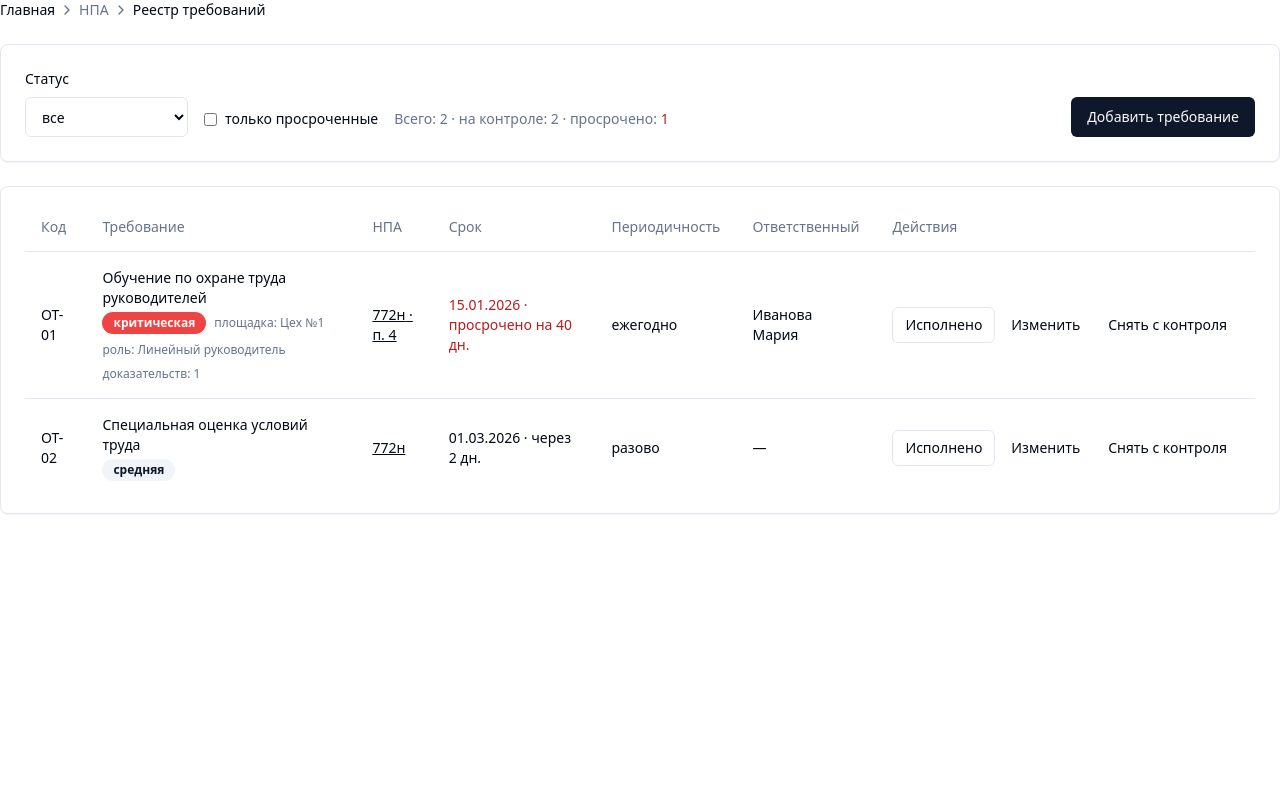
RequirementsPage › «Исполнено» шлёт доказательство, «Снять с контроля» — retire (срез-145)
The image size is (1280, 800).
Check: the text "Обучение по охране труда руководителей" is shown, box x1=102 y1=268 x2=286 y2=306
Check: the column heading "Действия" is shown, box x1=876 y1=203 x2=1255 y2=251
Click the button "Исполнено" in the row of "OT-01": [944, 324] box x1=892 y1=306 x2=995 y2=342
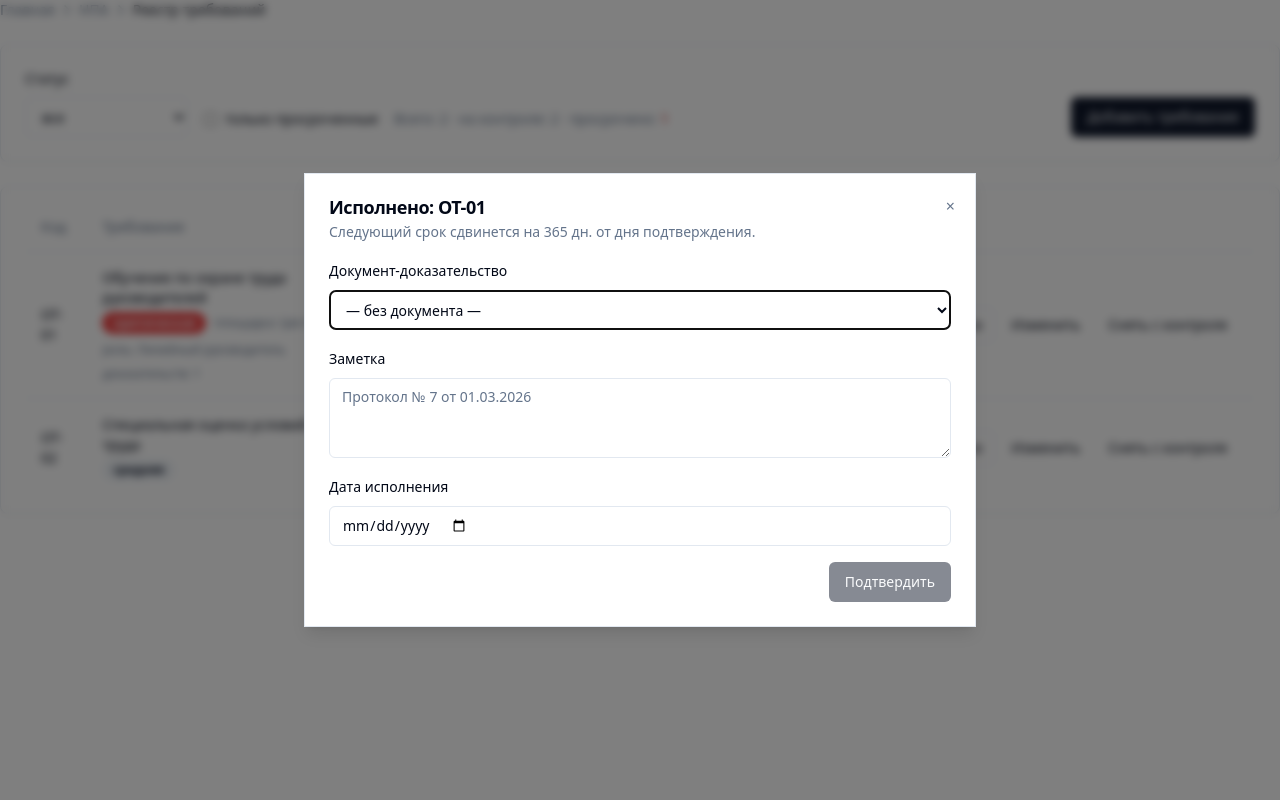
Check: the button "Подтвердить" is disabled, box x1=829 y1=562 x2=951 y2=602
Select "Протокол обучения · ООО Ромашка" in the dropdown labelled "Документ-доказательство": [640, 310] box x1=329 y1=290 x2=951 y2=330
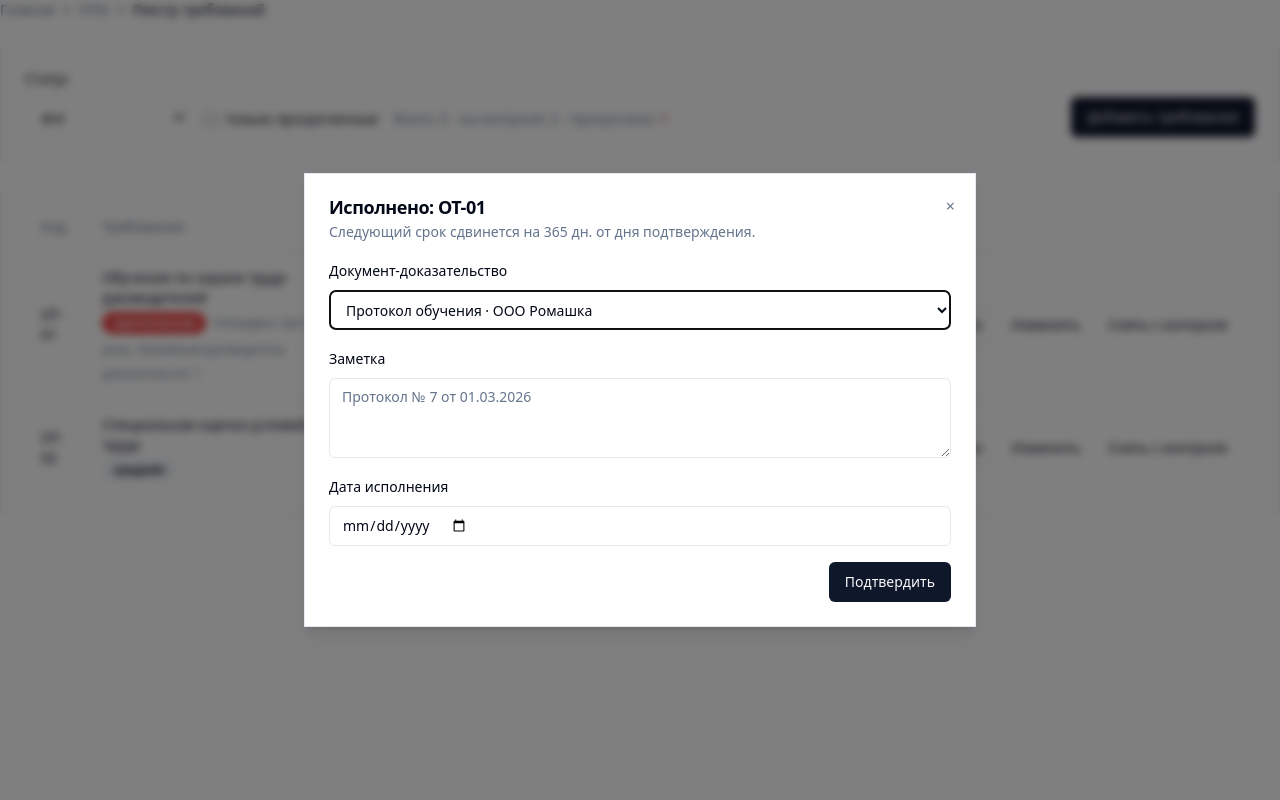
In the text box labelled "Заметка": [640, 418] box x1=329 y1=378 x2=951 y2=458, type "Протокол № 7"
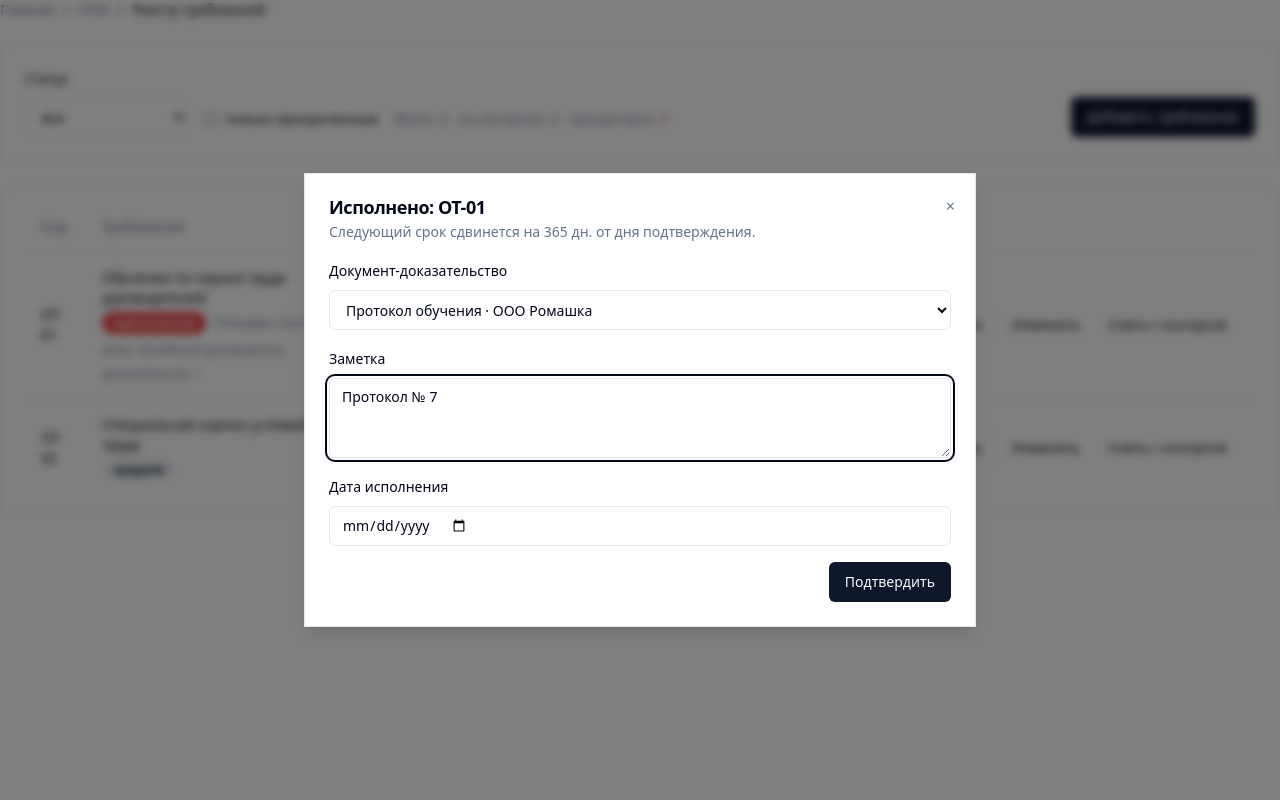
In the date field labelled "Дата исполнения": [640, 526] box x1=329 y1=506 x2=951 y2=546, type "2026-02-01"
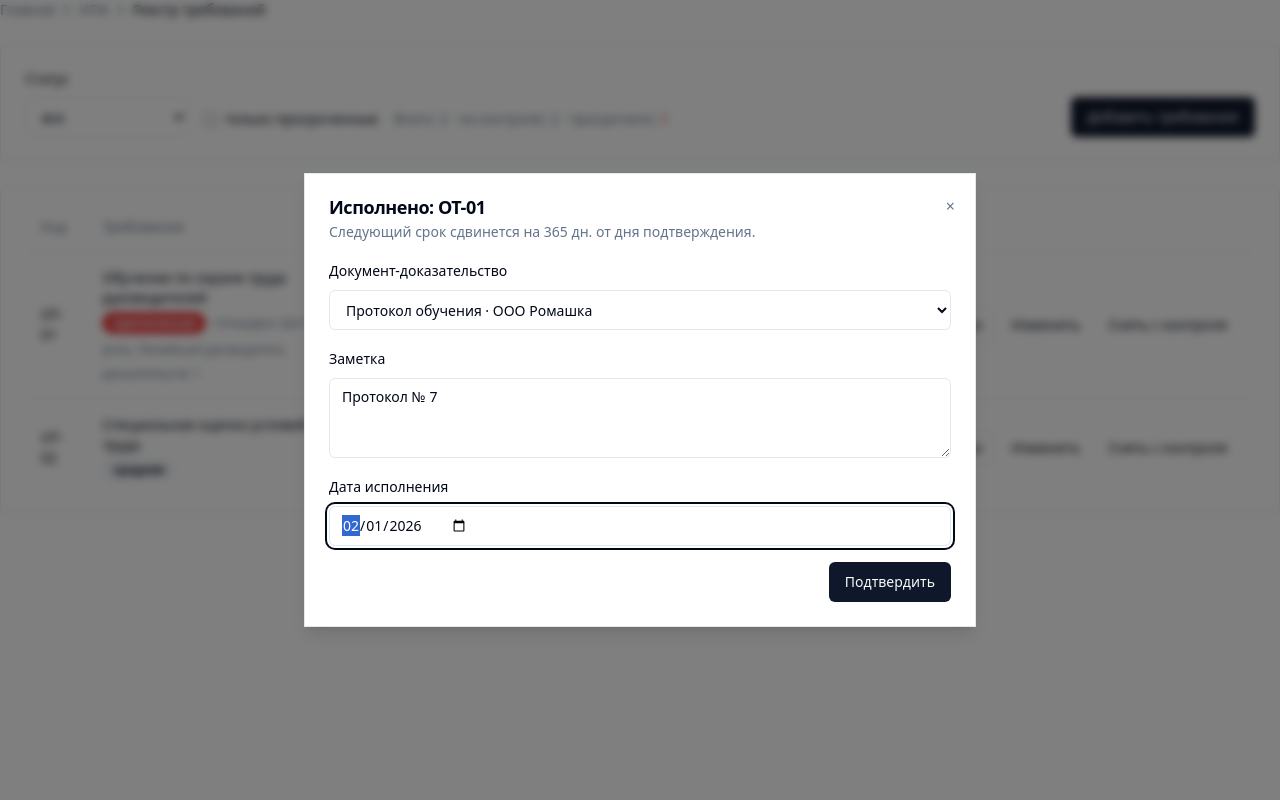
Click the button "Подтвердить": [890, 582] box x1=829 y1=562 x2=951 y2=602
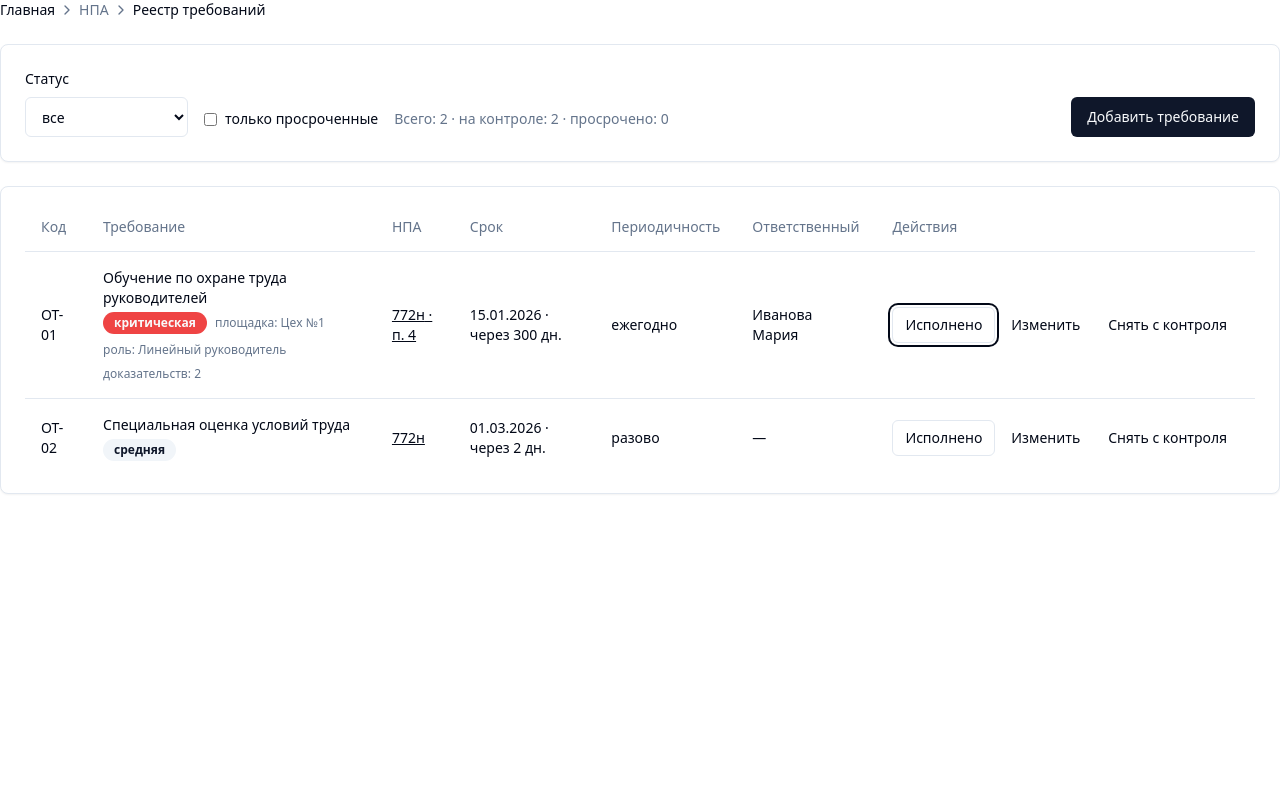
Check: the text "доказательств: 2" is shown, box x1=103 y1=366 x2=201 y2=382
Check: the element with test id "requirements-summary" shows "просрочено: 0", box x1=394 y1=109 x2=669 y2=137
Click the button "Снять с контроля" in the row of "OT-02": [1168, 438] box x1=1096 y1=420 x2=1239 y2=456
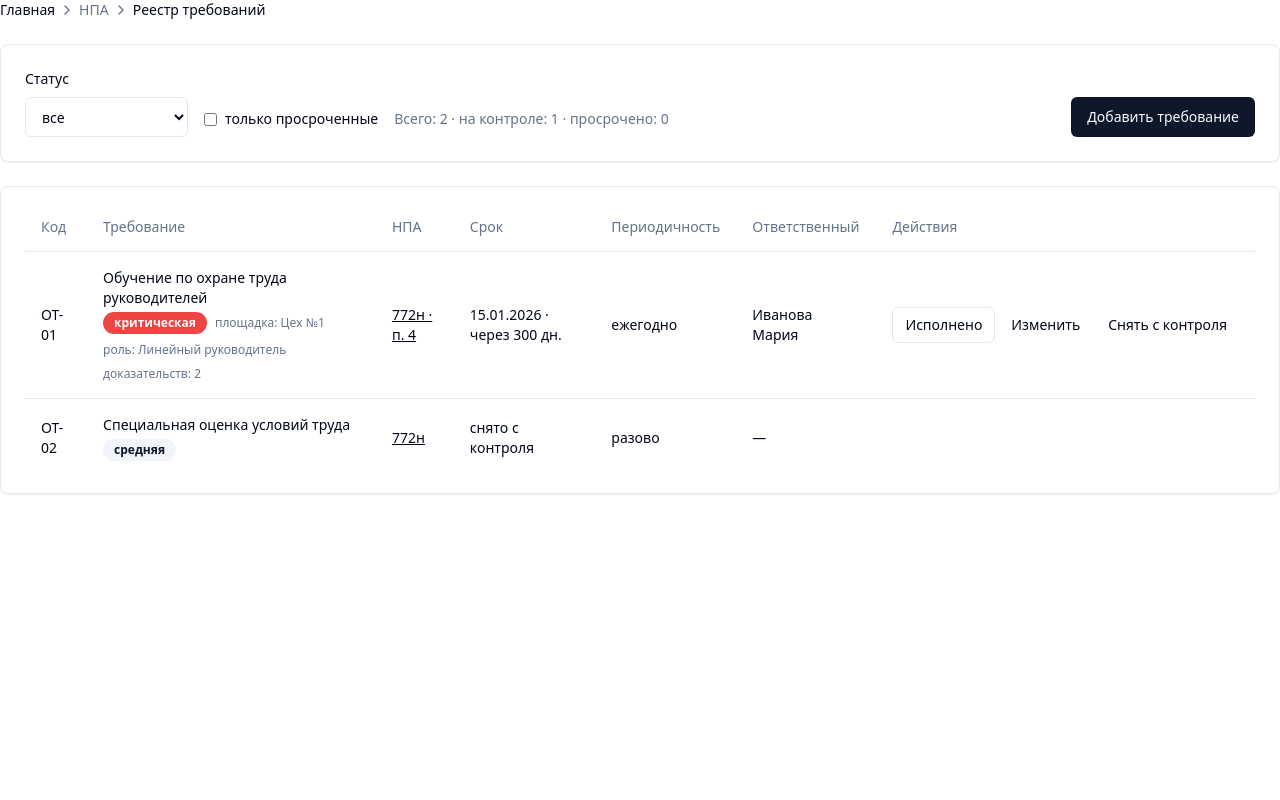
Check: the text "снято с контроля" is shown, box x1=454 y1=398 x2=595 y2=476
